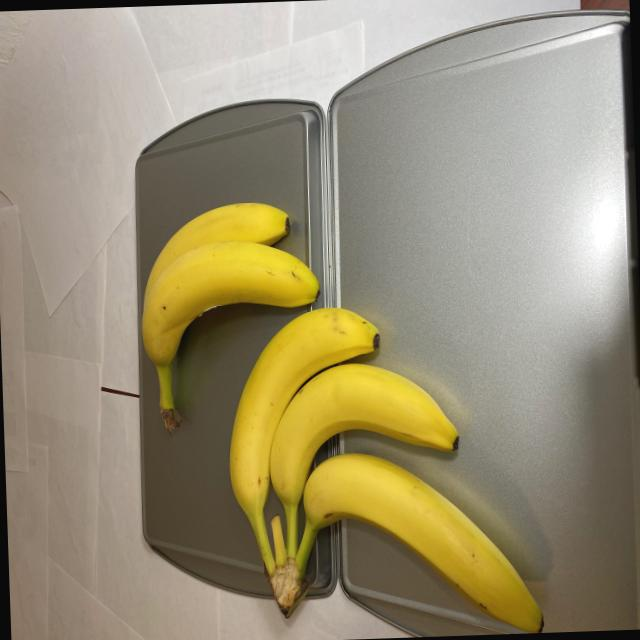banana: (137, 191, 548, 640)
